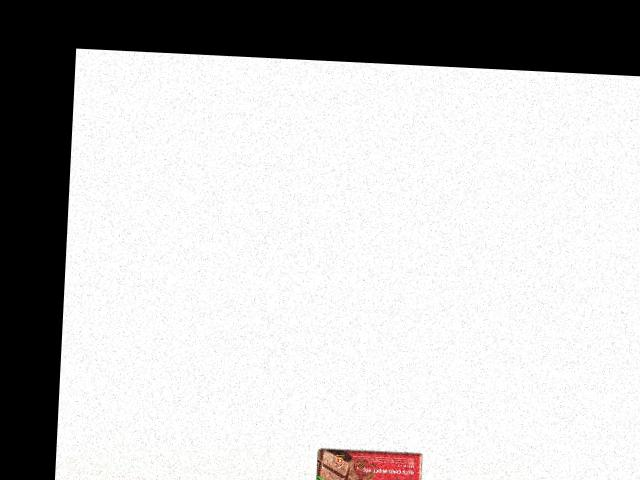chocolate: (314, 445, 425, 480)
